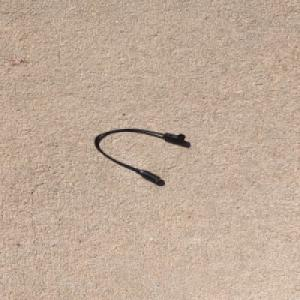Wire: (92, 127, 186, 183)
